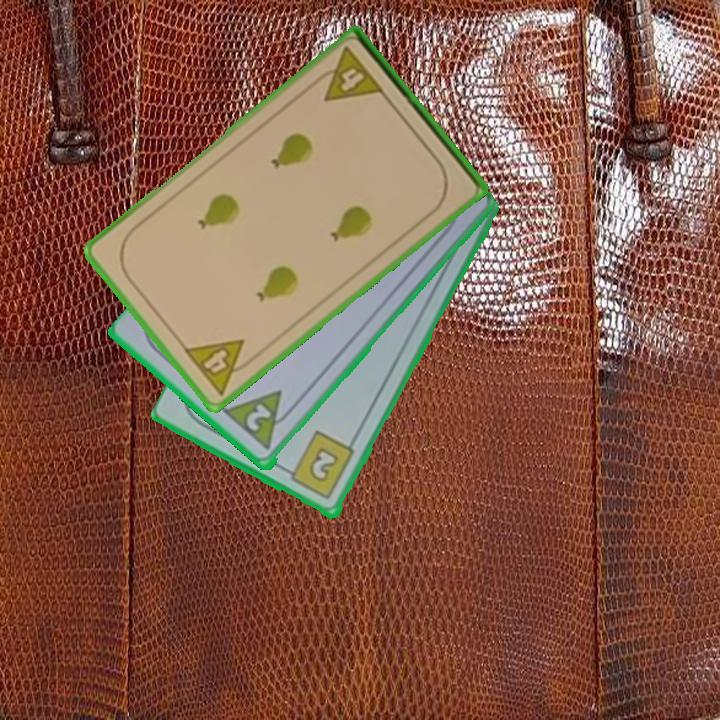2b: (280, 428, 358, 503)
2p: (242, 400, 275, 435)
4p: (180, 335, 260, 398), (309, 44, 387, 105)
